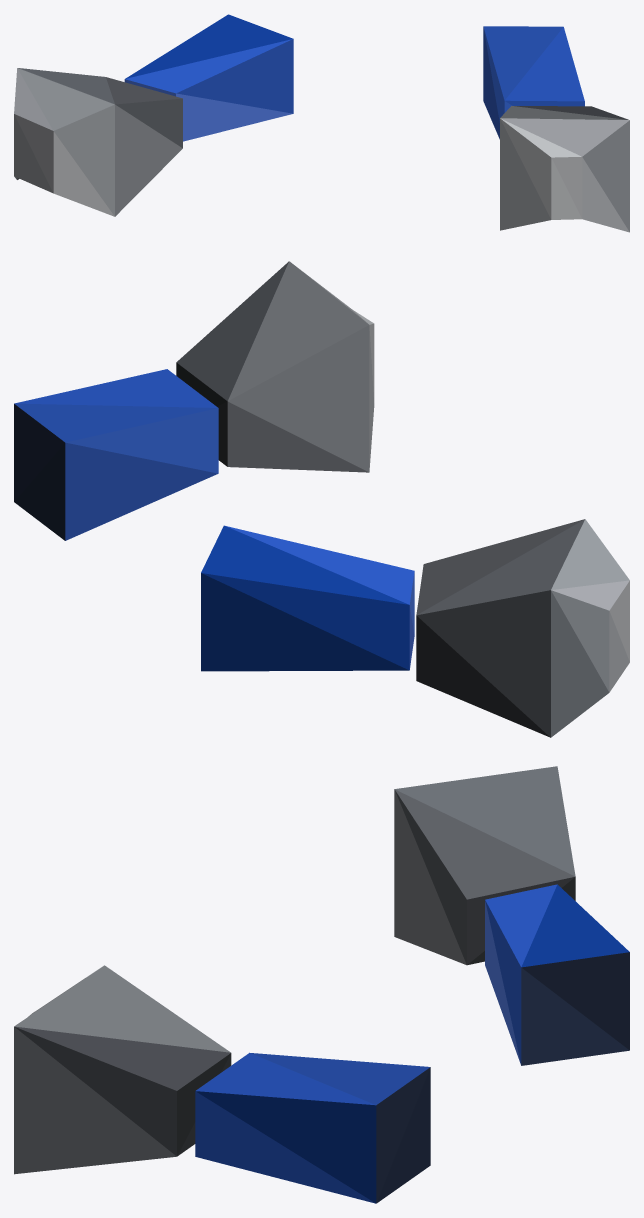
Rendered from mystic-gloves.obj.
The picture shows the model from 3 angles, top to bottom: view 1: azimuth 30°, elevation 25°; view 2: azimuth 150°, elevation 25°; view 3: azimuth 270°, elevation 25°; orthographic projection. The views are drawn at different scales.
Parts seen in each view (by area): view 1: Item Mystic gloves 2026-09-24_18-00-18; view 2: Item Mystic gloves 2026-09-24_18-00-18; view 3: Item Mystic gloves 2026-09-24_18-00-18.
Part boxes in pixels (box(x1,y1,x2,y2)): Item Mystic gloves 2026-09-24_18-00-18: box(14, 14, 629, 232); Item Mystic gloves 2026-09-24_18-00-18: box(14, 261, 629, 737); Item Mystic gloves 2026-09-24_18-00-18: box(14, 766, 629, 1203).
Bounding box in the file's own units: 42 × 9 × 34.
